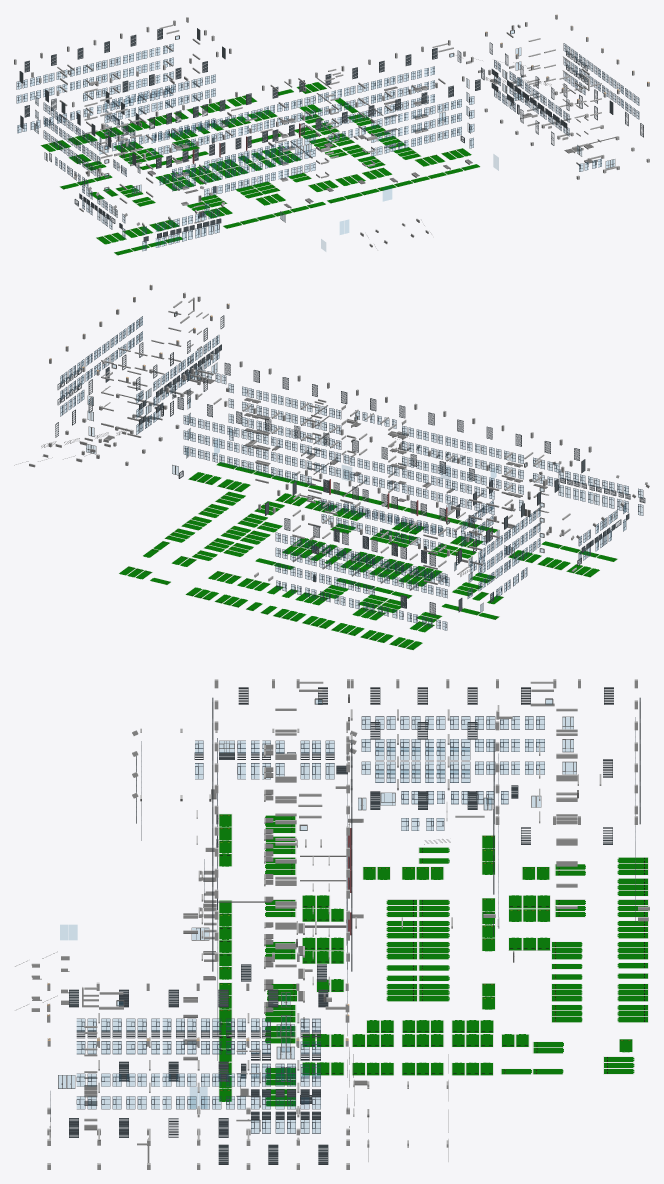
The model's file is teaching-building_12.gltf.
The picture shows the model from 3 angles, top to bottom: view 1: azimuth 30°, elevation 25°; view 2: azimuth 150°, elevation 25°; view 3: azimuth 270°, elevation 25°; orthographic projection. The views are drawn at different scales.
Size of the model in its own units: 153 by 31.1 by 107.
